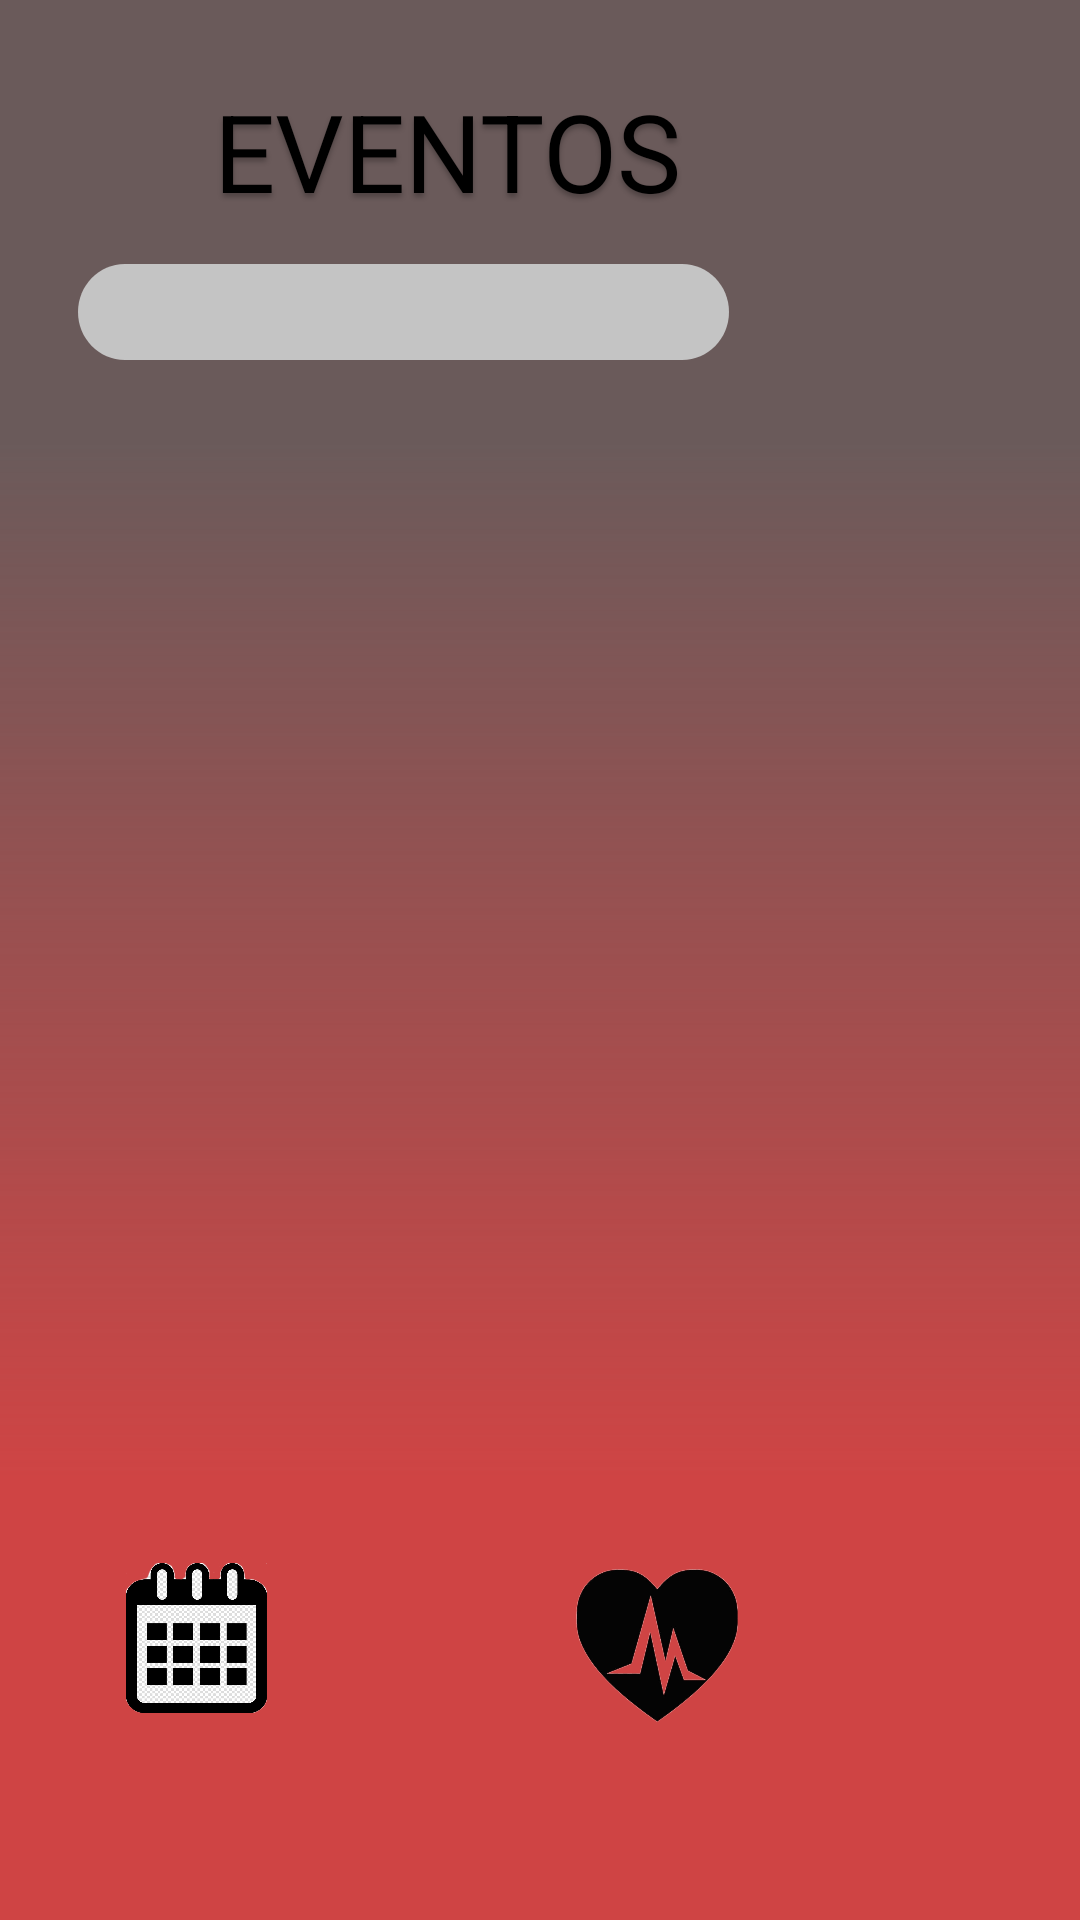

Screen size 1080x1920. Icon name, then its center in pixels as (x=x, y=y):
eventos: (x=196, y=1638)
